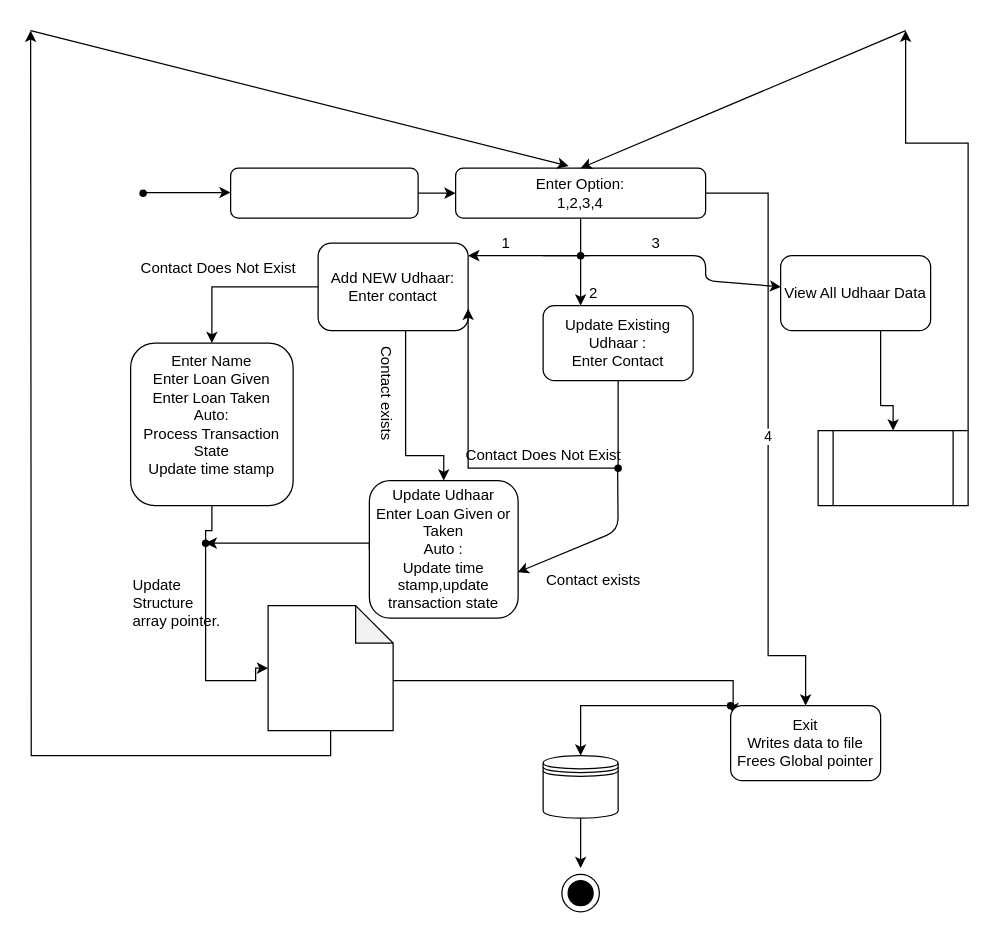
Some shapes in this 1000 by 934 pixel diagram are drawn without their labels. The shapes that lost their labels are listed below. From the top down, each one's centre as x and y in pixels, then its label:
At point (323, 192): "UDHAAR MENU".
At point (892, 467): "Display Data in Tabular form".
At point (330, 667): "Global Structure Array Pointer".
